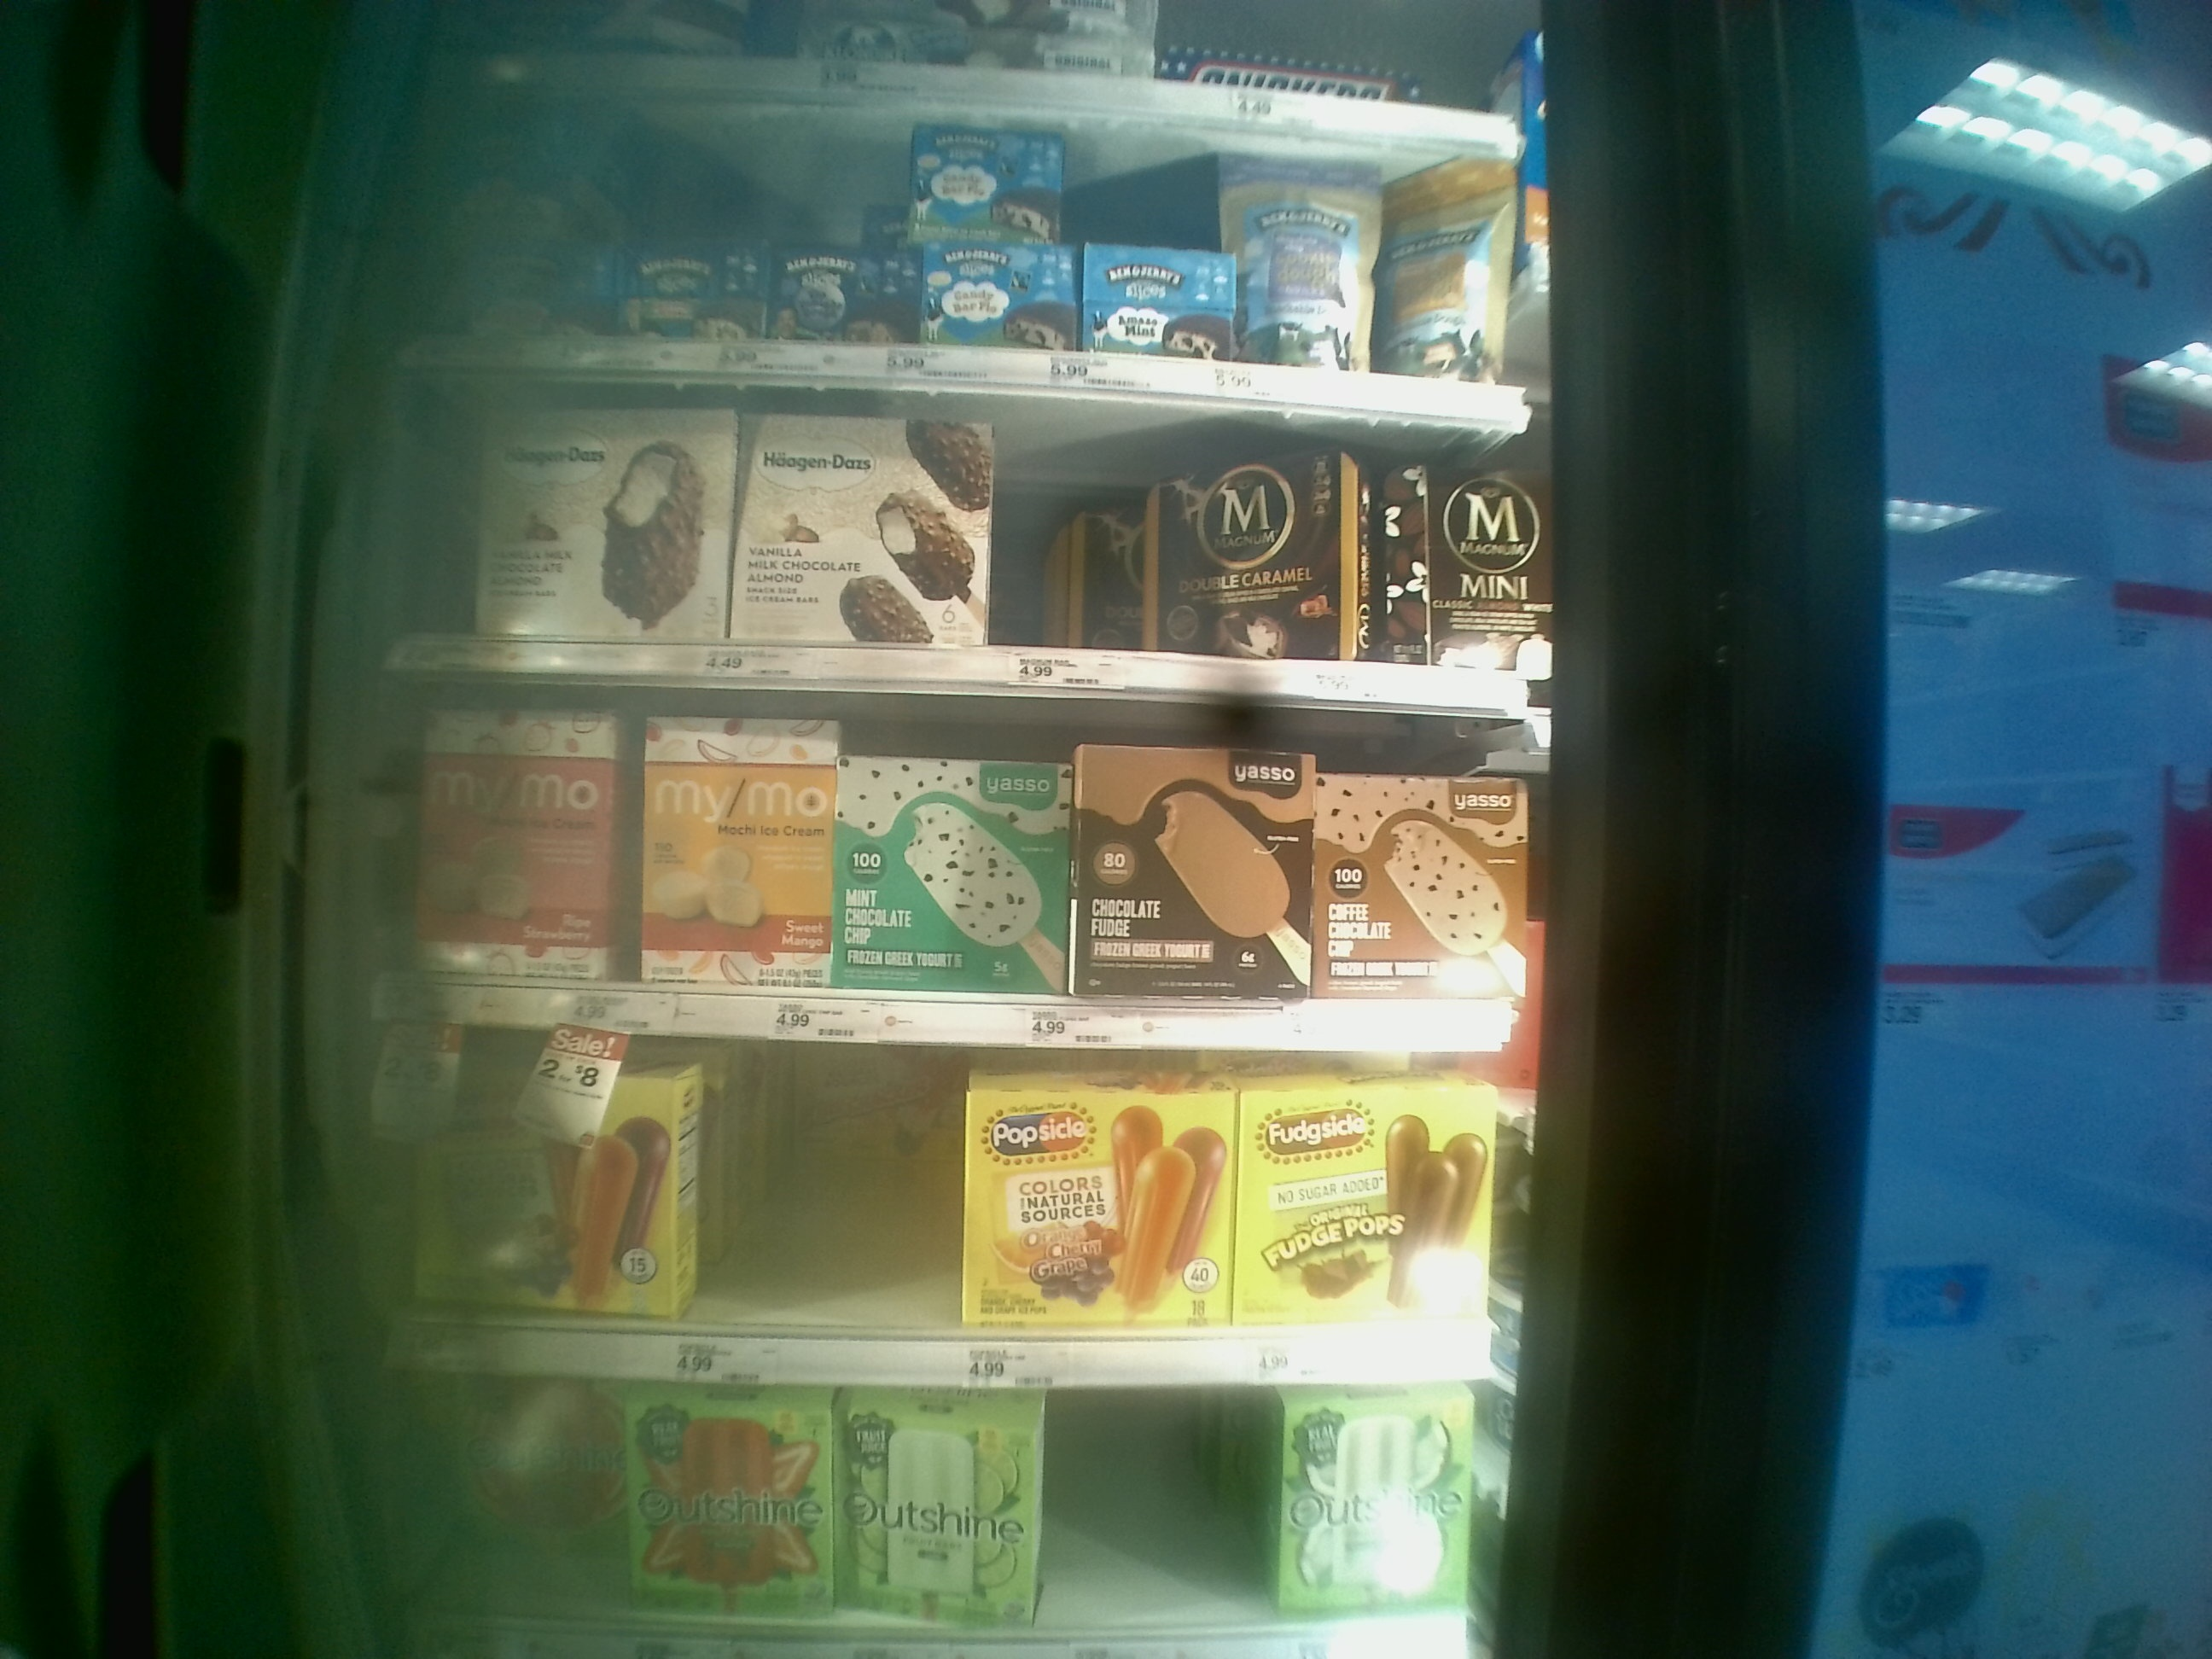shelf: (374, 676, 1541, 1063), (371, 382, 1545, 732), (355, 1042, 1524, 1391)
